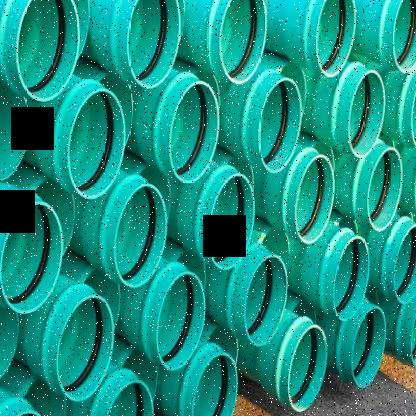pipe: (0, 202, 63, 314), (16, 0, 79, 102), (56, 294, 114, 402), (68, 90, 124, 200), (115, 183, 168, 288), (169, 80, 219, 184), (156, 272, 206, 370), (208, 172, 256, 271), (127, 0, 181, 87), (243, 255, 288, 347), (259, 78, 302, 174), (219, 0, 267, 85), (287, 325, 328, 412), (33, 178, 77, 257), (295, 155, 334, 244), (333, 235, 371, 322), (348, 70, 385, 158), (190, 350, 238, 416), (316, 0, 357, 77), (367, 148, 403, 232), (0, 83, 30, 183), (350, 307, 386, 388), (103, 379, 155, 416), (393, 223, 416, 304), (392, 0, 416, 74), (20, 377, 65, 416), (411, 70, 416, 150)
